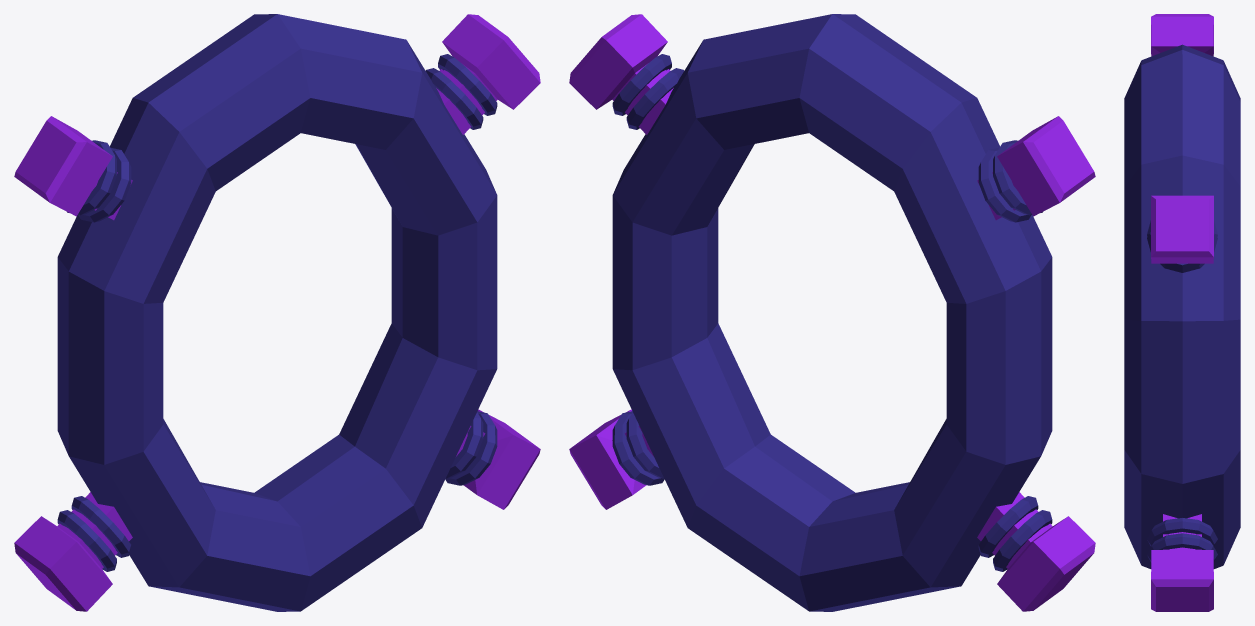
3 views of the same model, side by side, from view 1: azimuth 30°, elevation 25°; view 2: azimuth 150°, elevation 25°; view 3: azimuth 270°, elevation 25° (orthographic). The views are drawn at different scales.
Parts seen in each view (by area): view 1: Torus.002; view 2: Torus.002; view 3: Torus.002.
Boxes of the visible parts, left/top/right/bottom form: Torus.002: left=14, top=14, right=540, bottom=611; Torus.002: left=569, top=14, right=1095, bottom=611; Torus.002: left=1124, top=14, right=1240, bottom=611.
Size of the model in its own units: 216 by 250 by 50.
